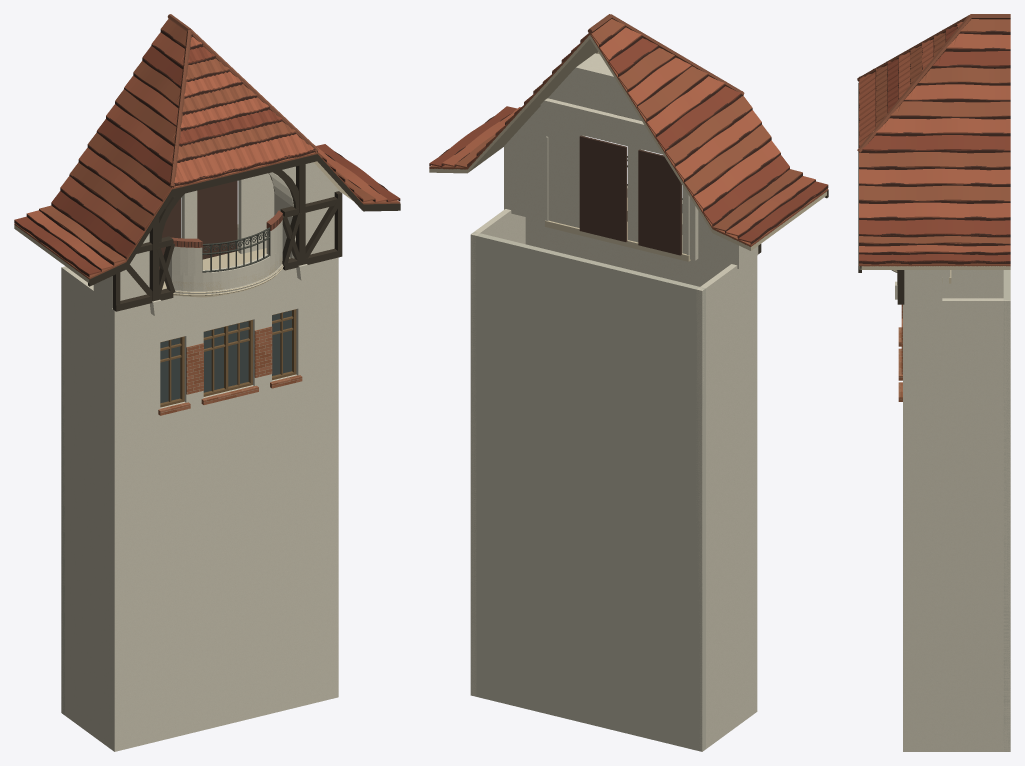
The model's file is lod-source.glb.
3 views of the same model, side by side, from view 1: azimuth 30°, elevation 25°; view 2: azimuth 150°, elevation 25°; view 3: azimuth 270°, elevation 25° (orthographic). The views are drawn at different scales.
Visible parts, largest first — view 1: 高安路77号花园住宅折檐弧阳台; view 2: 高安路77号花园住宅折檐弧阳台; view 3: 高安路77号花园住宅折檐弧阳台.
Part boxes in pixels (x1=…): 高安路77号花园住宅折檐弧阳台: x1=14, y1=14, x2=400, y2=751; 高安路77号花园住宅折檐弧阳台: x1=429, y1=14, x2=828, y2=751; 高安路77号花园住宅折檐弧阳台: x1=857, y1=14, x2=1010, y2=751.
Bounding box in the file's own units: 6.64 × 13.73 × 2.81.
Materials: 16 (2 with a texture image).
